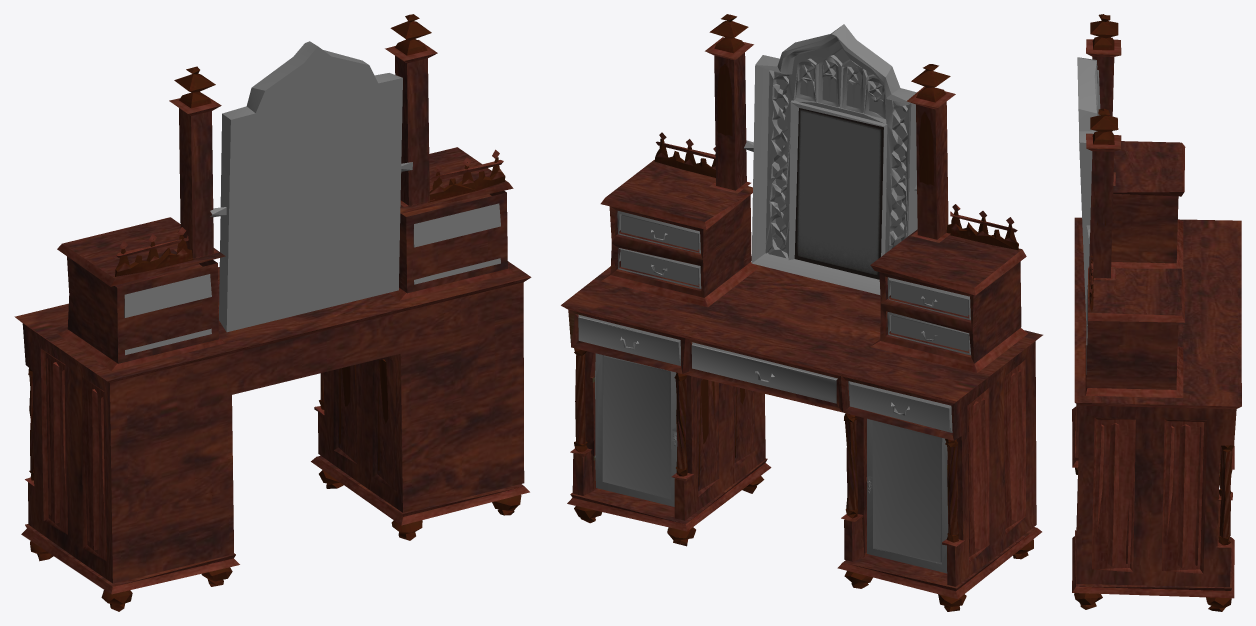
The model's file is dressing-table-mirror.lod1.glb.
The picture shows the model from 3 angles, left to right: view 1: azimuth 30°, elevation 25°; view 2: azimuth 150°, elevation 25°; view 3: azimuth 270°, elevation 25°; orthographic projection. The views are drawn at different scales.
Visible parts, largest first — view 1: dressing-table-mirror; view 2: dressing-table-mirror; view 3: dressing-table-mirror.
Boxes of the visible parts, x1=… form: dressing-table-mirror: x1=14, y1=14, x2=531, y2=611; dressing-table-mirror: x1=561, y1=14, x2=1042, y2=611; dressing-table-mirror: x1=1072, y1=14, x2=1241, y2=611.
Size of the model in its own units: 1.75 by 2.06 by 0.6761.
3 materials, 2 textured.
